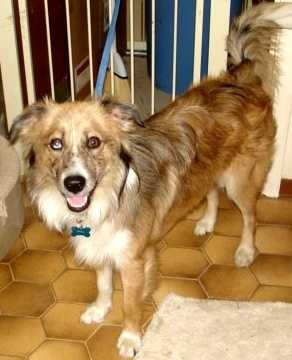Dog: (10, 3, 291, 356)
